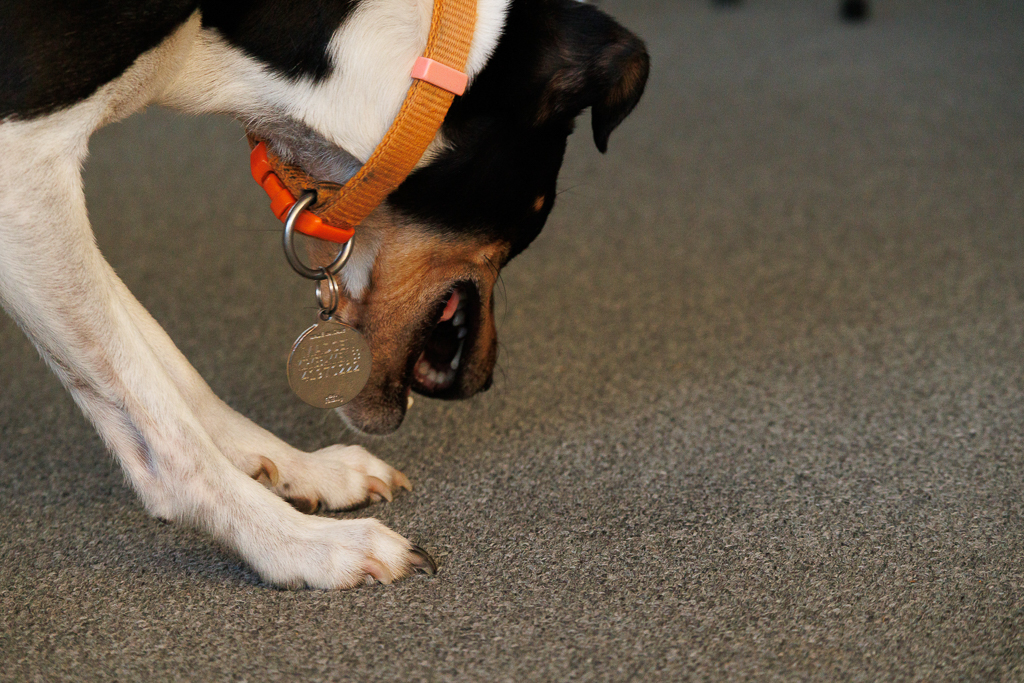Dog: (0, 0, 658, 605)
